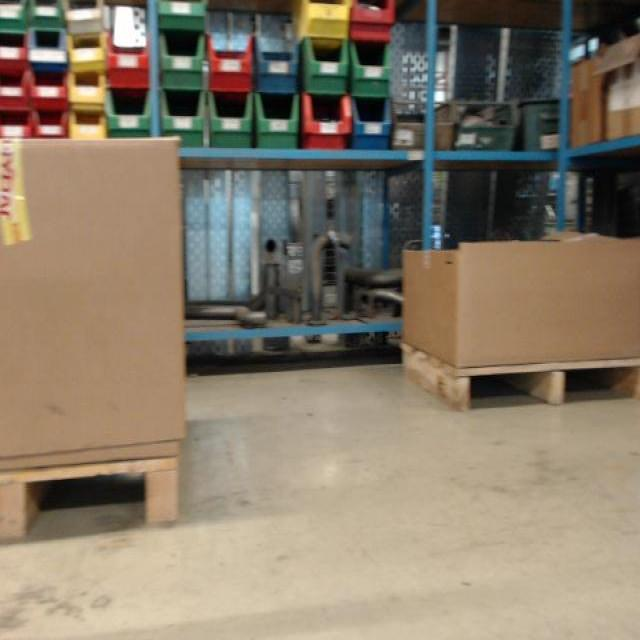pallet: (398, 342, 640, 420), (0, 452, 181, 549)
